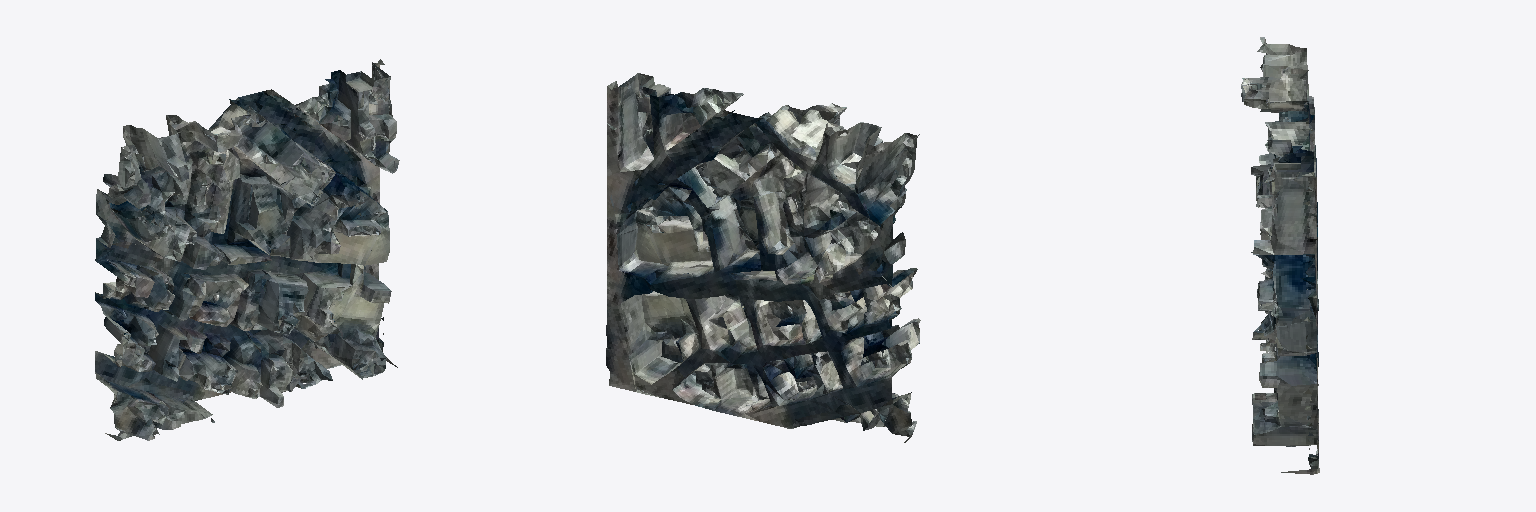
The picture shows the model from 3 angles: view 1: azimuth 30°, elevation 25°; view 2: azimuth 150°, elevation 25°; view 3: azimuth 270°, elevation 25°; orthographic projection.
Visible parts, largest first — view 1: Tile_173078_LD_012_017_L15.osgb__Geometry_0; view 2: Tile_173078_LD_012_017_L15.osgb__Geometry_0; view 3: Tile_173078_LD_012_017_L15.osgb__Geometry_0.
Boxes of the visible parts, x1=… form: Tile_173078_LD_012_017_L15.osgb__Geometry_0: x1=95, y1=59, x2=399, y2=440; Tile_173078_LD_012_017_L15.osgb__Geometry_0: x1=606, y1=73, x2=920, y2=442; Tile_173078_LD_012_017_L15.osgb__Geometry_0: x1=1241, y1=37, x2=1319, y2=474.
Size of the model in its own units: 255 by 255 by 61.42.
Materials: 1 (1 with a texture image).